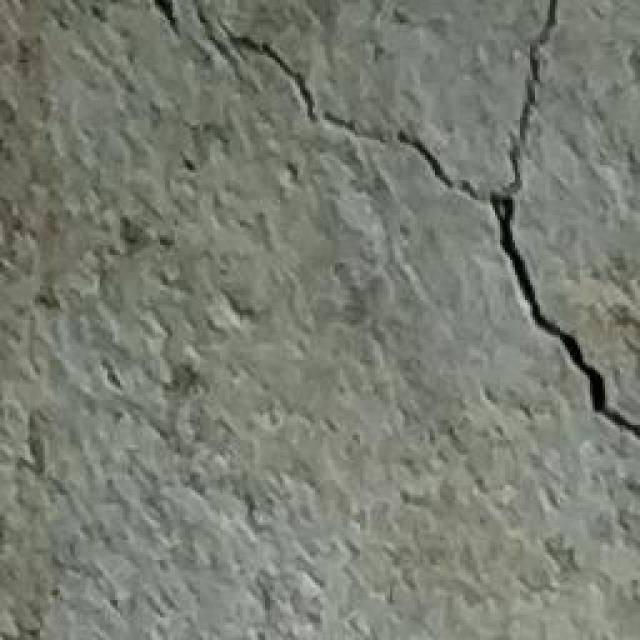Radial: (168, 0, 639, 520)
